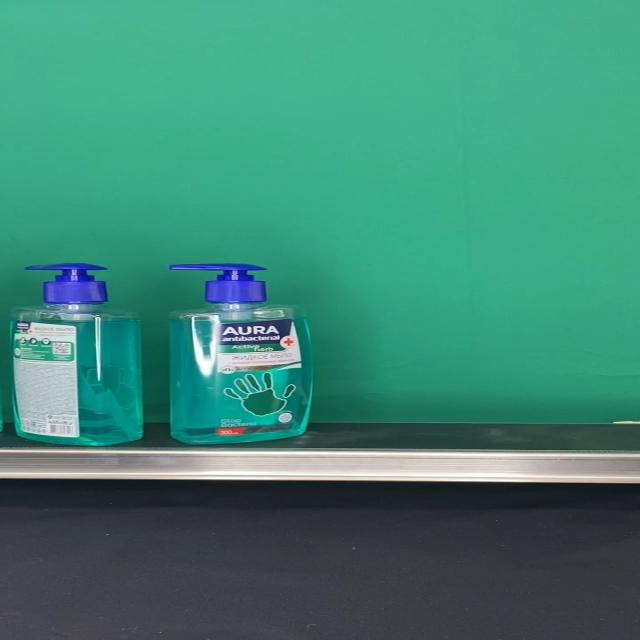Bottle: (165, 263, 314, 445), (8, 263, 143, 447)
Cap: (170, 264, 266, 306), (24, 262, 109, 304)
